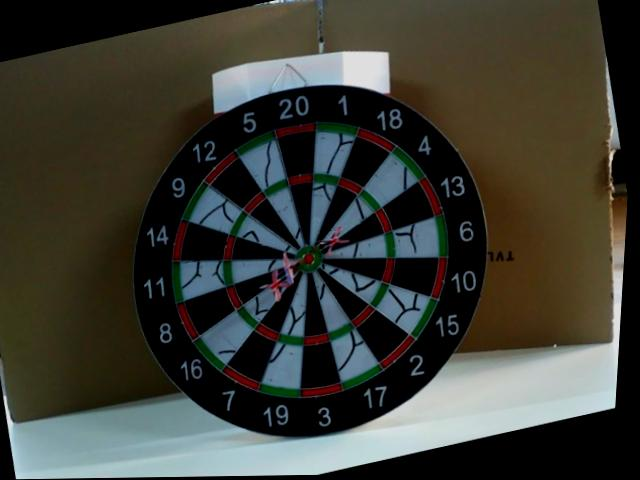bullseye: (298, 248, 322, 271)
